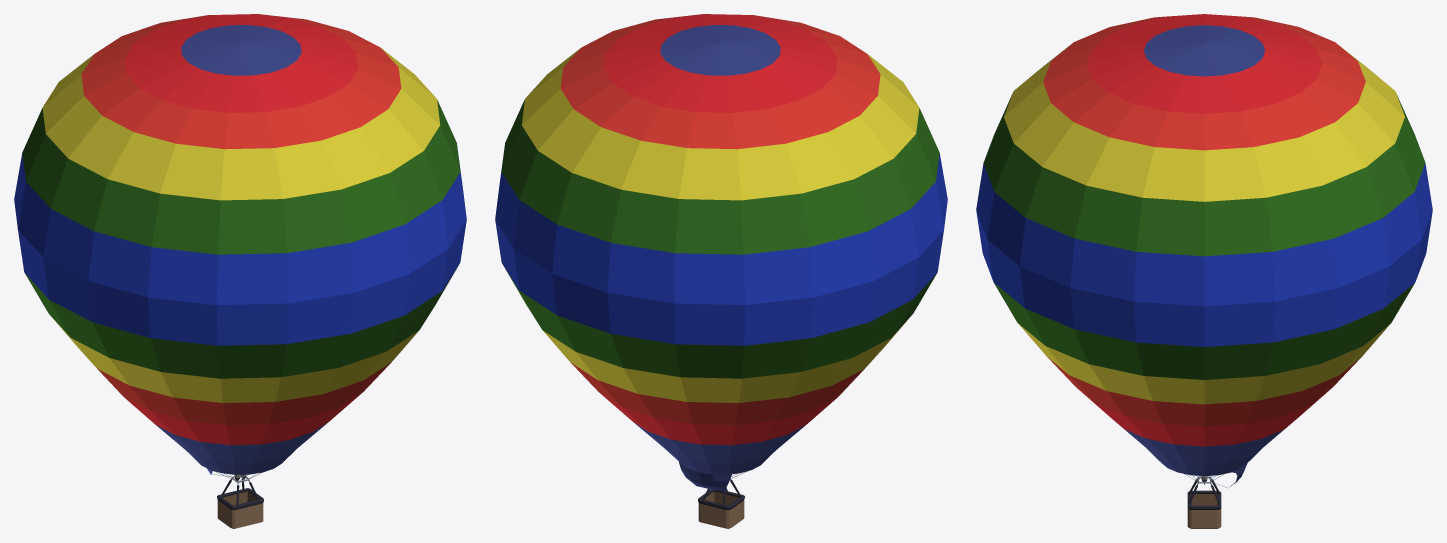
The model's file is HotAirBallon_Medium_02.fbx.
3 views of the same model, side by side, from view 1: azimuth 30°, elevation 25°; view 2: azimuth 150°, elevation 25°; view 3: azimuth 270°, elevation 25° (orthographic).
Visible parts, largest first — view 1: HotAirBallon_Medium_02; view 2: HotAirBallon_Medium_02; view 3: HotAirBallon_Medium_02.
Part boxes in pixels (x1=…): HotAirBallon_Medium_02: x1=14, y1=14, x2=466, y2=528; HotAirBallon_Medium_02: x1=495, y1=14, x2=947, y2=528; HotAirBallon_Medium_02: x1=976, y1=14, x2=1432, y2=528.
Size of the model in its own units: 22.43 by 25.98 by 22.43.
